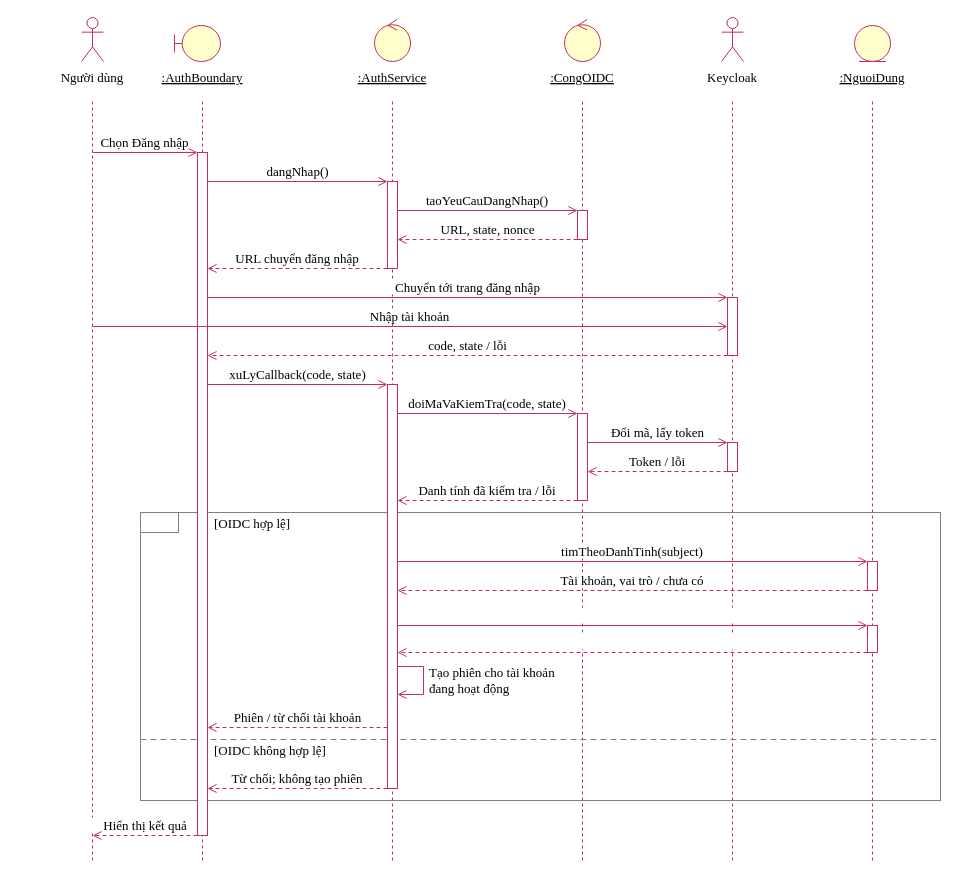
Some shapes in this 964 by 880 pixel diagram are drawn without their labels. Here are the shapes that lost their labels. From the top down, the centre of each, then its label:
(x=159, y=522): alt
(x=632, y=614): [chưa có tài khoản] taoTinhNguyenVien(subject, ten)
(x=632, y=641): Tài khoản tình nguyện viên, hồ sơ mới
